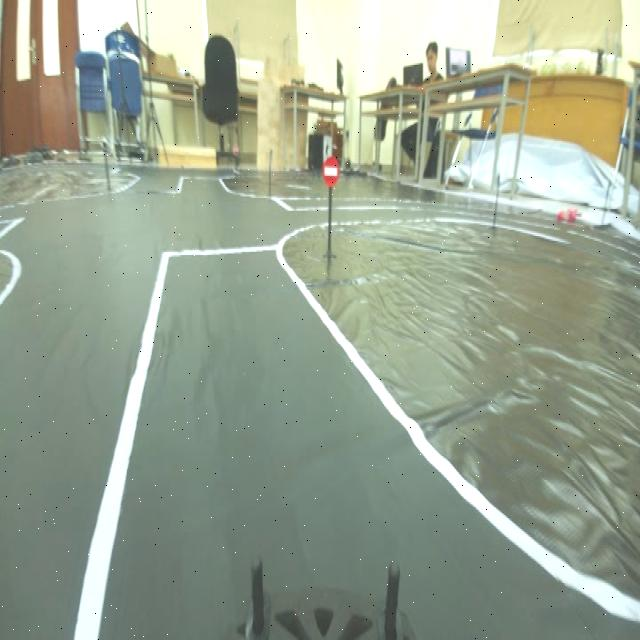no_entry: (317, 147, 344, 196)
